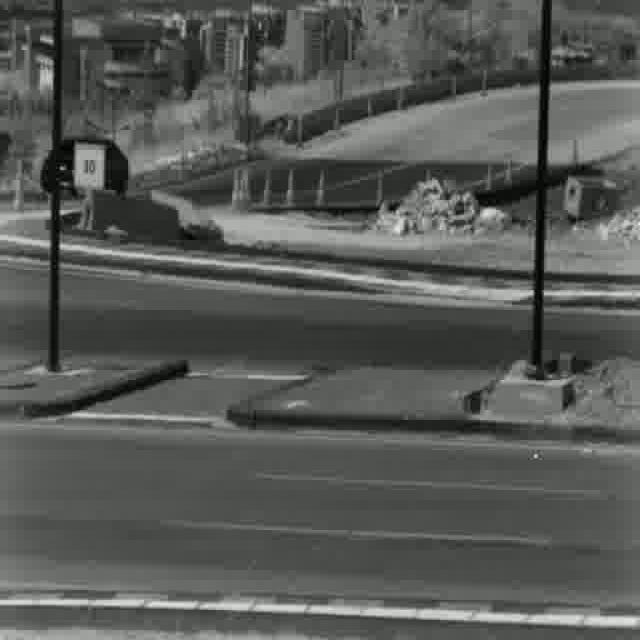Car: (41, 135, 126, 200)
